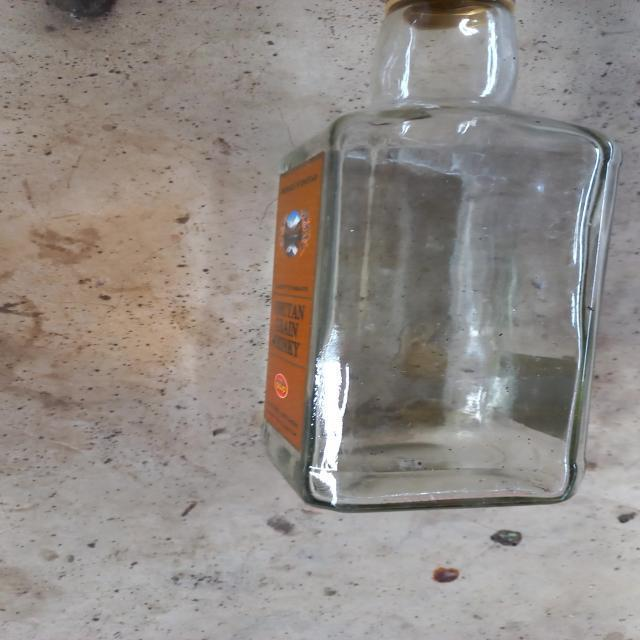Glass: (262, 0, 622, 514)
